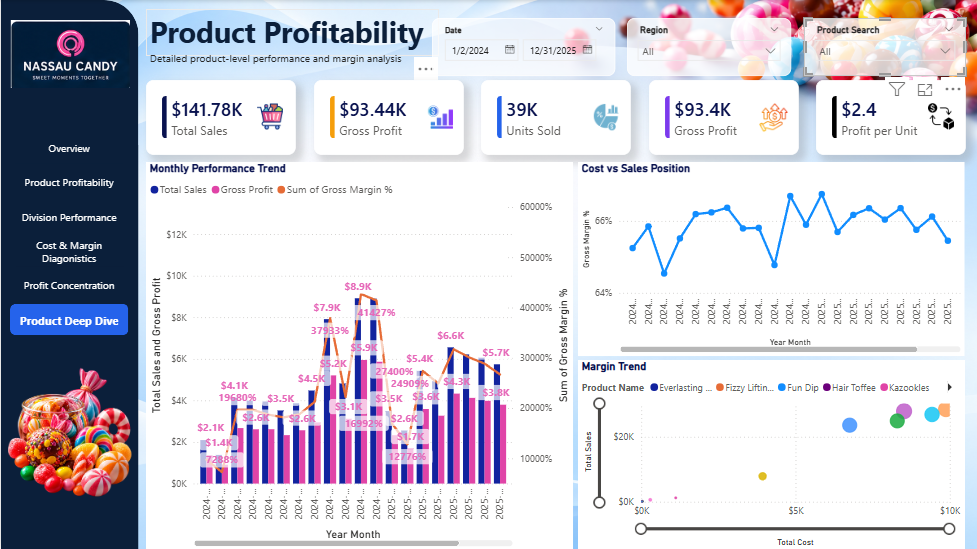

Layout of this report page (visuals, bound fields, positions):
{"tool":"powerbi","page":{"name":"Product Deep Dive","canvas":[1280,720],"ordinal":5},"visuals":[{"type":"shape","box":[0,0,180,720],"z":0},{"type":"image","box":[7.2,25.9,165.6,89.3],"z":1000},{"type":"pageNavigator","box":[11.7,172.5,155.8,271.7],"z":2000},{"type":"image","box":[0,480,180,172],"z":3000},{"type":"textbox","box":[190.1,11.5,383,61.9],"z":4000},{"type":"textbox","box":[190.1,61.9,390.2,31.7],"z":5000},{"type":"slicer","fields":{"Values":["DimDate.Date"]},"box":[564.5,23,240.5,76.3],"z":6000},{"type":"slicer","fields":{"Values":["DimCustomer.Region"]},"box":[819.4,23,214.6,76.3],"z":7000},{"type":"slicer","fields":{"Values":["FactSales.Product Name"]},"box":[1051.2,23,211.7,76.3],"z":8000},{"type":"cardVisual","fields":{"Data":["_Measures.Total Sales"]},"box":[190.1,104.7,195.8,97.9],"z":9000},{"type":"image","box":[335.7,133.6,34.3,37.9],"z":10000},{"type":"cardVisual","fields":{"Data":["_Measures.Profit per Unit"]},"box":[1067,104.7,195.8,97.9],"z":11000},{"type":"cardVisual","fields":{"Data":["_Measures.Gross Profit"]},"box":[409.3,104.7,195.8,97.9],"z":12000},{"type":"cardVisual","fields":{"Data":["_Measures.Units Sold"]},"box":[628.6,104.7,195.8,97.9],"z":13000},{"type":"cardVisual","fields":{"Data":["_Measures.Gross Profit"]},"box":[847.8,104.7,195.8,97.9],"z":14000},{"type":"image","box":[557.1,135,33.6,36.4],"z":15000},{"type":"image","box":[774.3,134.3,37.1,37.1],"z":16000},{"type":"image","box":[992.1,134.3,38.6,37.9],"z":17000},{"type":"image","box":[1213.6,131.4,34.3,42.9],"z":18000},{"type":"lineClusteredColumnComboChart","title":"Monthly Performance Trend","fields":{"Category":["DimDate.Year Month"],"Y":["_Measures.Total Sales","_Measures.Gross Profit"],"Y2":["Sum(FactSales.Gross Margin %)"]},"box":[190.1,211.7,558.7,508.3],"z":19000},{"type":"lineChart","title":"Cost vs Sales Position","fields":{"Category":["DimDate.Year Month"],"Y":["_Measures.Gross Margin %"]},"box":[755.7,211.4,505.7,254.3],"z":20000},{"type":"scatterChart","title":"Margin Trend","fields":{"X":["_Measures.Total Cost"],"Y":["_Measures.Total Sales"],"Size":["Sum(FactSales.Gross Profit)"],"Series":["DimProduct.Product Name"]},"box":[755.7,471.4,505.7,248.6],"z":21000}]}

Visuals, with their boxes on the page's 1280x720 design canvas (x1, y1, x2, y2). These are canvas units, not pixel positions in the 977x549 screenshot, which may show the page scaled, cropped or inside an application window:
shape: [left=0, top=0, right=180, bottom=720]
image: [left=7, top=26, right=173, bottom=115]
pageNavigator: [left=12, top=172, right=168, bottom=444]
image: [left=0, top=480, right=180, bottom=652]
textbox: [left=190, top=12, right=573, bottom=73]
textbox: [left=190, top=62, right=580, bottom=94]
slicer - DimDate.Date: [left=564, top=23, right=805, bottom=99]
slicer - DimCustomer.Region: [left=819, top=23, right=1034, bottom=99]
slicer - FactSales.Product Name: [left=1051, top=23, right=1263, bottom=99]
cardVisual - _Measures.Total Sales: [left=190, top=105, right=386, bottom=203]
image: [left=336, top=134, right=370, bottom=172]
cardVisual - _Measures.Profit per Unit: [left=1067, top=105, right=1263, bottom=203]
cardVisual - _Measures.Gross Profit: [left=409, top=105, right=605, bottom=203]
cardVisual - _Measures.Units Sold: [left=629, top=105, right=824, bottom=203]
cardVisual - _Measures.Gross Profit: [left=848, top=105, right=1044, bottom=203]
image: [left=557, top=135, right=591, bottom=171]
image: [left=774, top=134, right=811, bottom=171]
image: [left=992, top=134, right=1031, bottom=172]
image: [left=1214, top=131, right=1248, bottom=174]
"Monthly Performance Trend" lineClusteredColumnComboChart: [left=190, top=212, right=749, bottom=720]
"Cost vs Sales Position" lineChart: [left=756, top=211, right=1261, bottom=466]
"Margin Trend" scatterChart: [left=756, top=471, right=1261, bottom=720]
